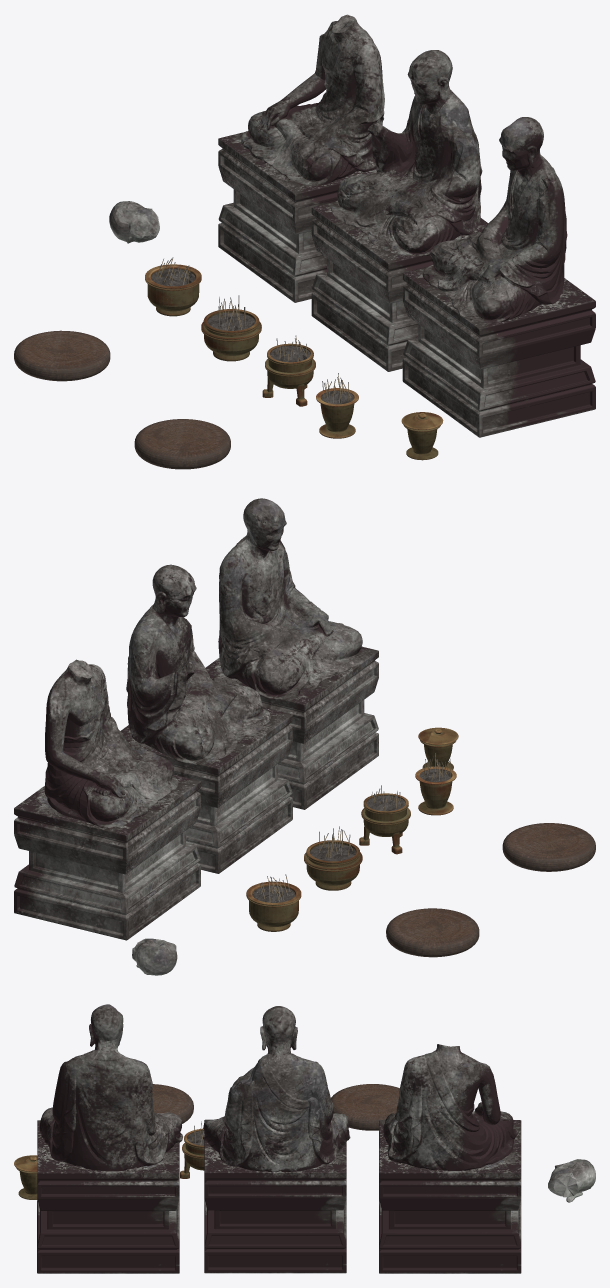
File: Monk Statues.fbx
3 views of the same model, one above another, from view 1: azimuth 30°, elevation 25°; view 2: azimuth 150°, elevation 25°; view 3: azimuth 270°, elevation 25° (orthographic). The views are drawn at different scales.
Parts seen in each view (by area): view 1: CTI Monk Statue 03.Shape, CTI Monk Statue 02.Shape, CTI Monk Statue 01.Shape, CTi Futon 02.Shape, CTi Futon 01.Shape, CTI Incense Burner 05.Shape, CTI Incense Burner 06.Shape, CTI Incense Burner 04.Shape, CTI Incense Burner 03.Shape, CTI Incense Burner 02.Shape; view 2: CTI Monk Statue 01.Shape, CTI Monk Statue 03.Shape, CTI Monk Statue 02.Shape, CTi Futon 02.Shape, CTi Futon 01.Shape, CTI Incense Burner 05.Shape, CTI Incense Burner 06.Shape, CTI Incense Burner 04.Shape, CTI Incense Burner 03.Shape, CTI Incense Burner 02.Shape; view 3: CTI Monk Statue 01.Shape, CTI Monk Statue 03.Shape, CTI Monk Statue 02.Shape, CTi Futon 02.Shape, CTi Futon 01.Shape, CTI Incense Burner 04.Shape, CTI Incense Burner 02.Shape.
Boxes of the visible parts, x1,y1,x2,y2 form: CTI Monk Statue 03.Shape: [402, 117, 595, 437]; CTI Monk Statue 02.Shape: [311, 50, 488, 371]; CTI Monk Statue 01.Shape: [109, 14, 384, 302]; CTi Futon 02.Shape: [14, 330, 110, 381]; CTi Futon 01.Shape: [134, 419, 230, 469]; CTI Incense Burner 05.Shape: [201, 295, 261, 361]; CTI Incense Burner 06.Shape: [145, 257, 201, 316]; CTI Incense Burner 04.Shape: [262, 335, 315, 406]; CTI Incense Burner 03.Shape: [316, 373, 358, 438]; CTI Incense Burner 02.Shape: [401, 412, 443, 460]; CTI Monk Statue 01.Shape: [14, 659, 200, 975]; CTI Monk Statue 03.Shape: [205, 498, 378, 809]; CTI Monk Statue 02.Shape: [120, 564, 292, 873]; CTi Futon 02.Shape: [386, 908, 479, 957]; CTi Futon 01.Shape: [502, 823, 595, 871]; CTI Incense Burner 05.Shape: [304, 826, 362, 890]; CTI Incense Burner 06.Shape: [246, 874, 301, 931]; CTI Incense Burner 04.Shape: [359, 785, 410, 854]; CTI Incense Burner 03.Shape: [415, 753, 456, 815]; CTI Incense Burner 02.Shape: [418, 727, 458, 769]; CTI Monk Statue 01.Shape: [379, 1044, 595, 1273]; CTI Monk Statue 03.Shape: [37, 1004, 182, 1273]; CTI Monk Statue 02.Shape: [203, 1006, 350, 1273]; CTi Futon 02.Shape: [331, 1084, 399, 1130]; CTi Futon 01.Shape: [152, 1084, 193, 1123]; CTI Incense Burner 04.Shape: [180, 1121, 204, 1178]; CTI Incense Burner 02.Shape: [14, 1155, 37, 1199].
Size of the model in its own units: 370 by 244 by 509.
3 materials, 2 textured.
